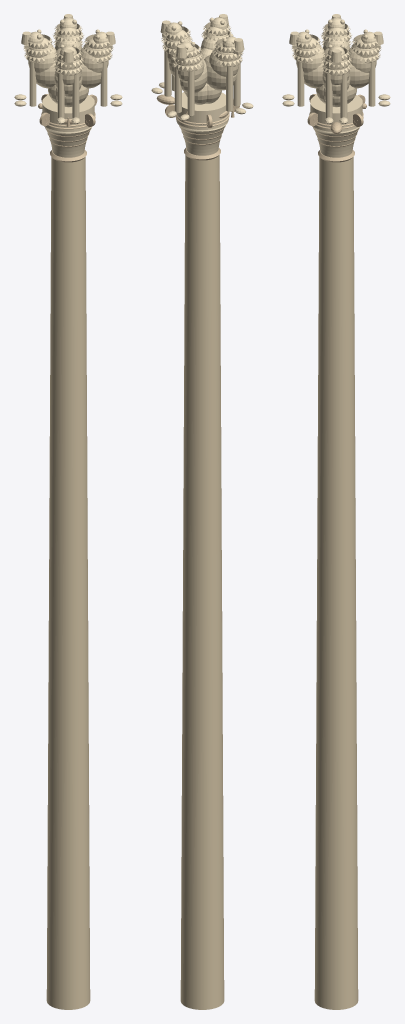
File: ashoka_pillar_s4.glb
3 renders of one model, left to right at view 1: azimuth 90°, elevation 25°; view 2: azimuth 150°, elevation 25°; view 3: azimuth 270°, elevation 25°, orthographic.
Parts seen in each view (by area): view 1: ashoka_pillar; view 2: ashoka_pillar; view 3: ashoka_pillar.
Boxes of the visible parts, x1,y1,x2,y2 form: ashoka_pillar: (14, 14, 122, 1009); ashoka_pillar: (151, 14, 253, 1009); ashoka_pillar: (282, 14, 390, 1009).
Size of the model in its own units: 1.22 by 12 by 1.22.
